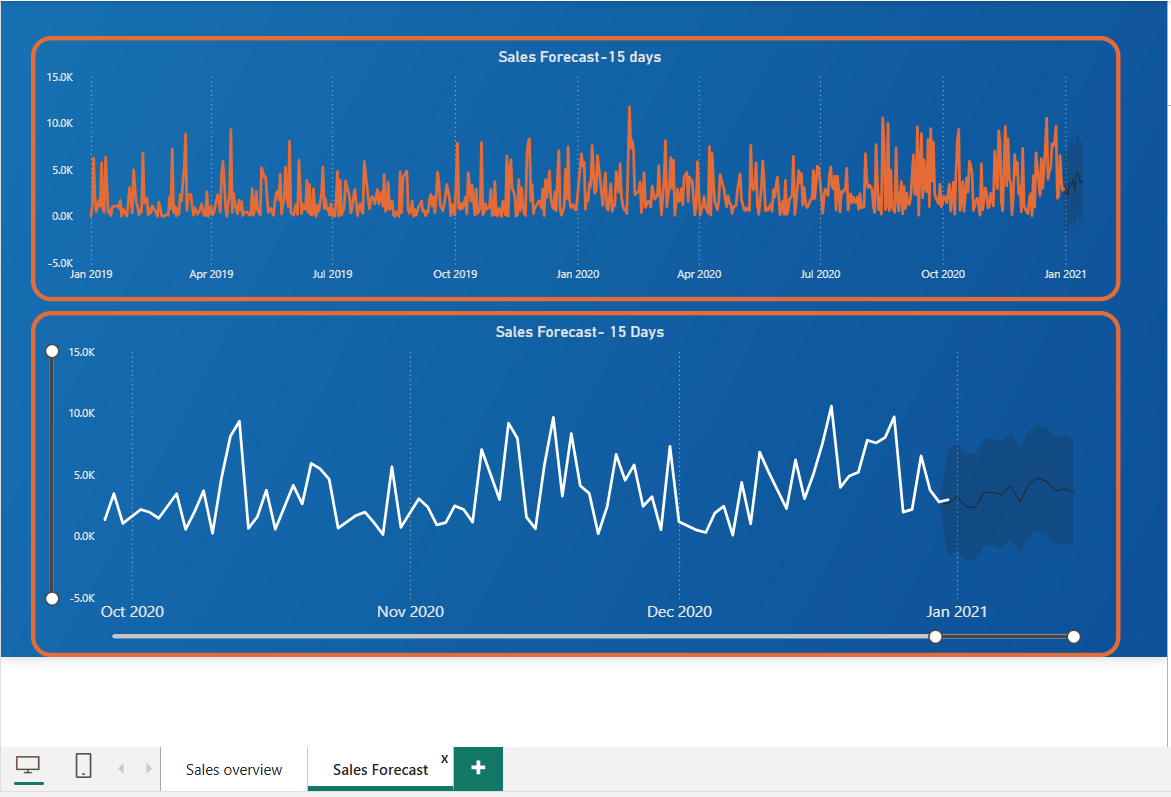

Layout of this report page (visuals, bound fields, positions):
{"tool":"powerbi","page":{"name":"Page 2","canvas":[1280,720],"ordinal":1},"visuals":[{"type":"lineChart","title":"Sales Forecast-15 days","fields":{"Y":["Sum(SuperStore_Sales_Dataset.Sales)"],"Category":["SuperStore_Sales_Dataset.Order Date"]},"box":[32.9,38.6,1195.7,291.4],"z":0},{"type":"lineChart","title":"Sales Forecast-  15 Days","fields":{"Y":["Sum(SuperStore_Sales_Dataset.Sales)"],"Category":["SuperStore_Sales_Dataset.Order Date"]},"box":[32.9,340,1195.7,380],"z":1}]}

Visuals, with their boxes in screenshot pixels (x1, y1, x2, y2):
"Sales Forecast-15 days" lineChart: [88,38,1166,301]
"Sales Forecast-  15 Days" lineChart: [88,310,1166,653]
